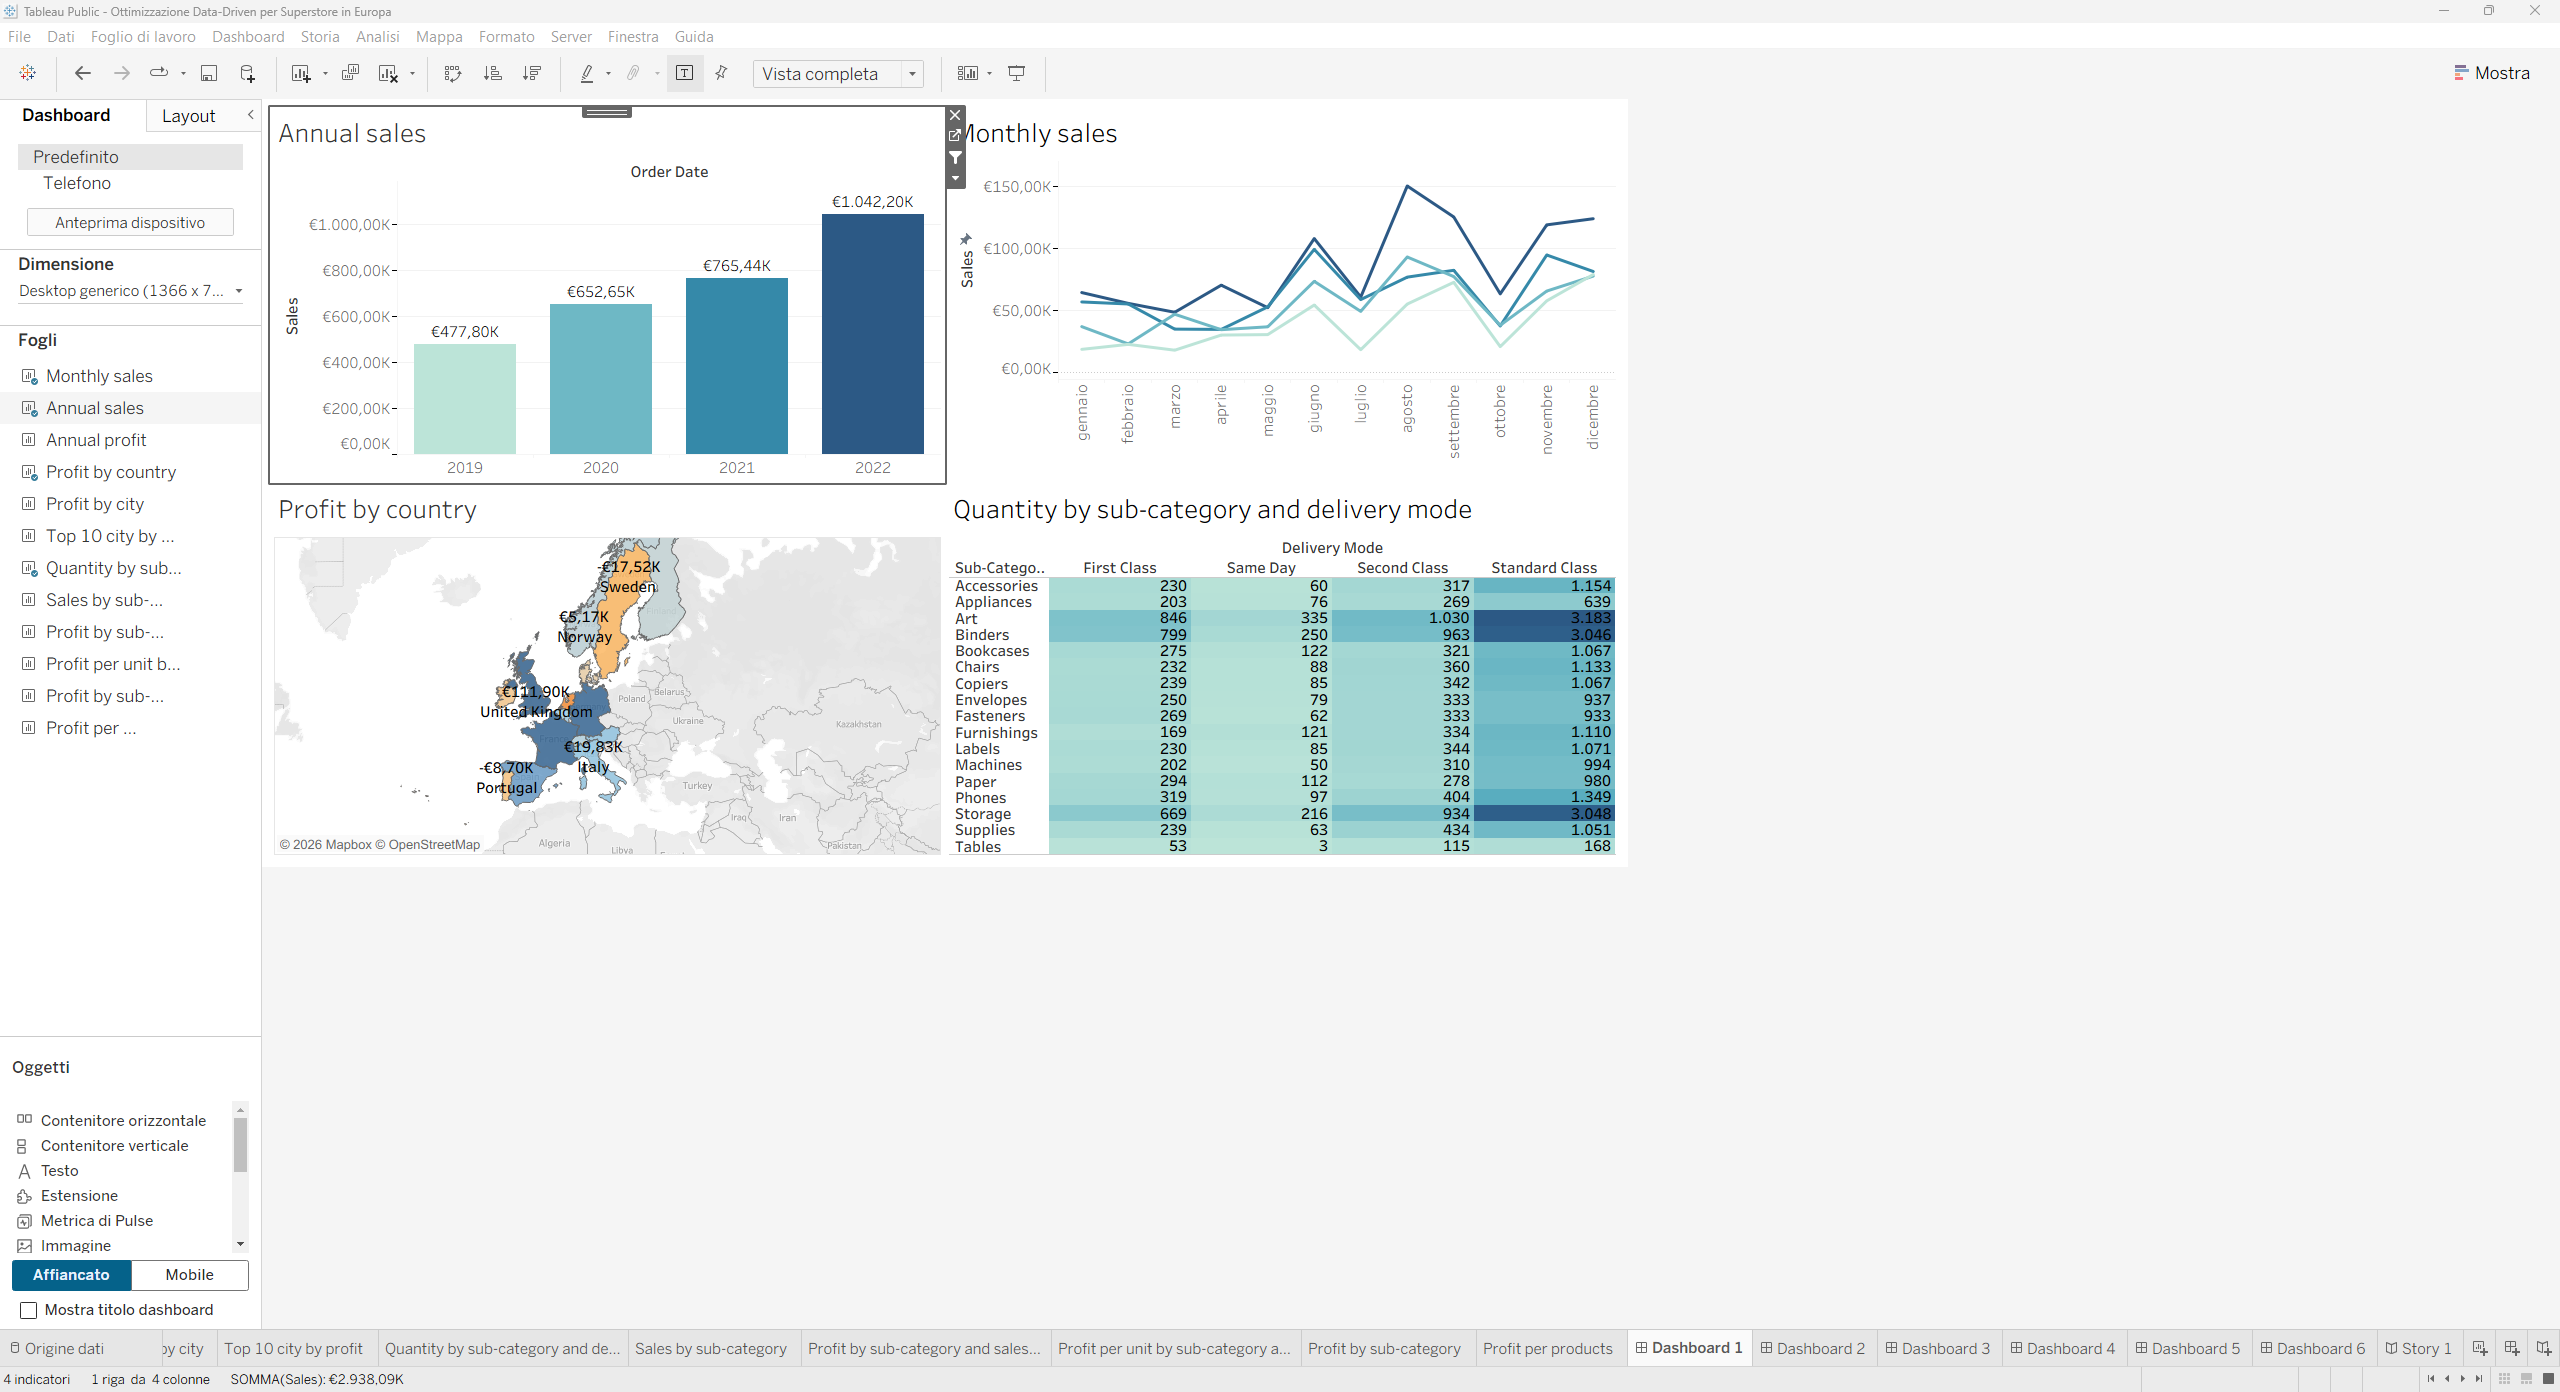

Layout of this report page (visuals, bound fields, positions):
{"tool":"tableau","page":{"name":"Dashboard 1","canvas":[1366,768],"ordinal":0},"visuals":[{"type":"worksheet","title":"Annual sales","mark":"Bar","rows":["Sales"],"cols":["Order Date"],"box":[8,8,675,376]},{"type":"worksheet","title":"Monthly sales","mark":"Automatic","rows":["Sales"],"cols":["Order Date"],"box":[683,8,675,376]},{"type":"worksheet","title":"Profit by country","mark":"Automatic","box":[8,384,675,376]},{"type":"worksheet","title":"Quantity by sub-category and delivery mode","mark":"Square","rows":["Sub-Category"],"cols":["Delivery Mode"],"box":[683,384,675,376]}]}

Visuals, with their boxes on the page's 1366x768 design canvas (x1, y1, x2, y2). These are canvas units, not pixel positions in the 2560x1392 screenshot, which may show the page scaled, cropped or inside an application window:
"Annual sales" worksheet (Bar marks): {"x1": 8, "y1": 8, "x2": 683, "y2": 384}
"Monthly sales" worksheet: {"x1": 683, "y1": 8, "x2": 1358, "y2": 384}
"Profit by country" worksheet: {"x1": 8, "y1": 384, "x2": 683, "y2": 760}
"Quantity by sub-category and delivery mode" worksheet (Square marks): {"x1": 683, "y1": 384, "x2": 1358, "y2": 760}
